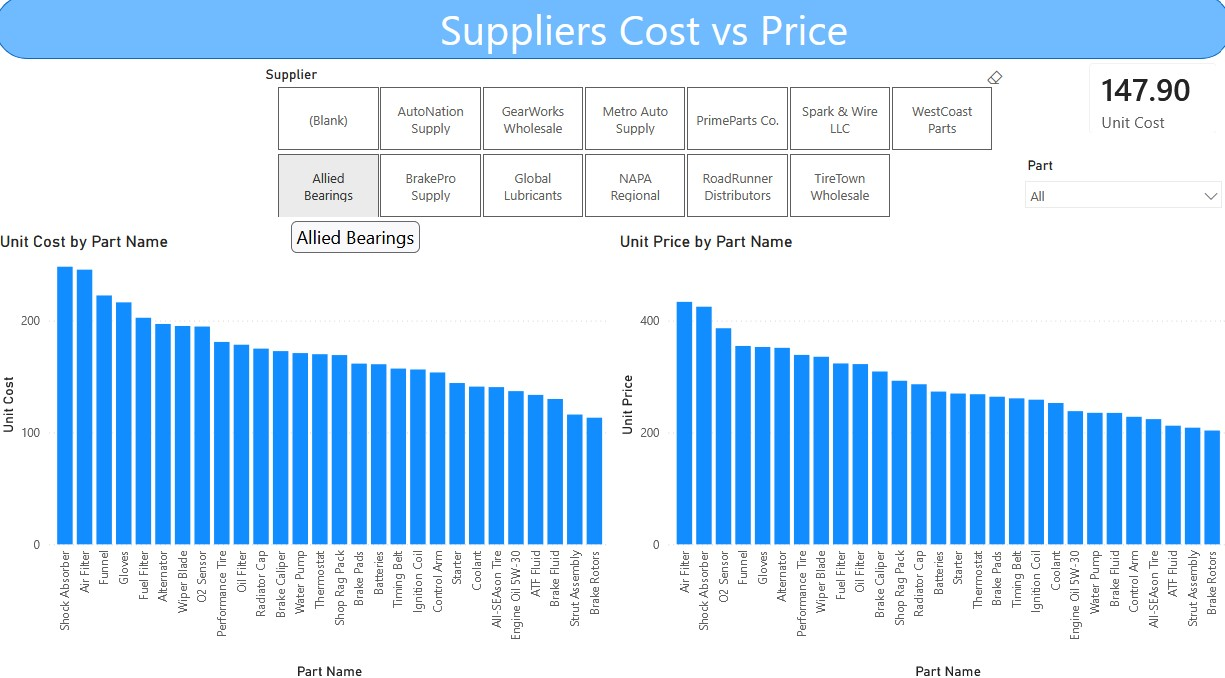

This screenshot's page, from the dashboard's own definition file:
{"tool":"powerbi","page":{"name":"Suppliers Cost Vs Price","canvas":[1280,720],"ordinal":4},"visuals":[{"type":"columnChart","fields":{"Category":["Parts.part_name"],"Y":["Avg(Parts.unit_cost)"]},"box":[0,245.7,640.6,474.3],"z":0},{"type":"slicer","fields":{"Values":["Suppliers.supplier_name"]},"box":[266.5,66.1,788,170.1],"z":1},{"type":"columnChart","fields":{"Category":["Parts.part_name"],"Y":["Avg(Parts.unit_price)"]},"box":[640.6,245.7,638.7,474.3],"z":2},{"type":"cardVisual","fields":{"Data":["Avg(Parts.unit_cost)"]},"box":[1113.1,52.9,166.3,107.7],"z":4},{"type":"slicer","fields":{"Values":["Parts.part_name"]},"box":[1054.5,160.6,224.9,75.6],"z":5},{"type":"shape","box":[0,0,1279.4,66.1],"z":6},{"type":"textbox","box":[173.9,0,994,66.1],"z":7}]}

Visuals, with their boxes in screenshot pixels (x1, y1, x2, y2), scaled from the page's 1280x720 canvas onto the 1225x678 screenshot:
columnChart - Parts.part_name x Avg(Parts.unit_cost): box=[0, 231, 613, 677]
slicer - Suppliers.supplier_name: box=[255, 62, 1009, 222]
columnChart - Parts.part_name x Avg(Parts.unit_price): box=[613, 231, 1224, 677]
cardVisual - Avg(Parts.unit_cost): box=[1065, 50, 1224, 151]
slicer - Parts.part_name: box=[1009, 151, 1224, 222]
shape: box=[0, 0, 1224, 62]
textbox: box=[166, 0, 1118, 62]
